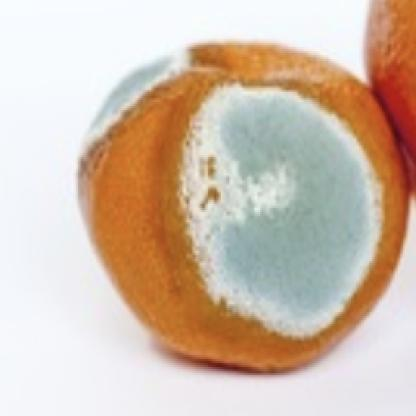rotten: (74, 39, 400, 374)
